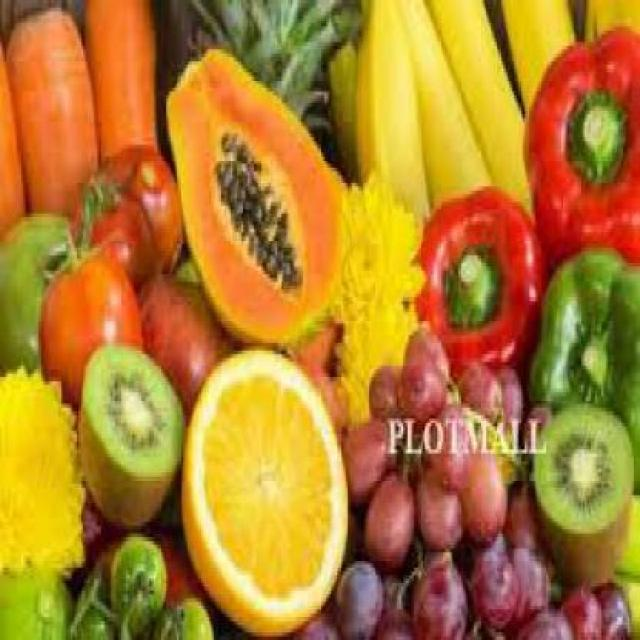BIODEGRADABLE: (162, 46, 340, 343), (177, 342, 348, 636), (522, 22, 638, 275), (524, 243, 638, 488), (414, 183, 544, 374), (183, 0, 357, 142), (330, 168, 422, 423), (429, 0, 529, 214), (74, 339, 186, 526), (2, 0, 92, 225), (533, 395, 630, 583), (407, 0, 493, 209), (0, 358, 83, 572), (351, 0, 426, 232), (73, 144, 179, 294), (38, 248, 138, 403), (138, 270, 232, 412), (0, 209, 75, 369), (83, 0, 155, 160), (218, 144, 296, 282), (89, 526, 208, 606), (498, 0, 573, 115), (38, 168, 116, 270), (59, 461, 113, 568), (108, 533, 164, 636), (0, 556, 72, 636), (362, 465, 415, 572), (410, 545, 465, 637), (0, 34, 25, 226), (465, 541, 517, 628), (459, 442, 503, 544), (412, 461, 459, 553), (324, 35, 354, 179), (341, 415, 388, 503), (333, 556, 382, 636), (427, 396, 468, 484), (501, 472, 542, 550), (394, 362, 444, 423), (509, 544, 546, 622), (455, 355, 499, 419), (72, 567, 111, 636), (286, 329, 342, 373), (556, 579, 598, 636), (490, 358, 521, 431), (579, 0, 638, 38), (593, 579, 630, 636), (403, 324, 446, 373), (514, 601, 569, 637), (171, 590, 214, 636), (364, 362, 402, 412), (311, 366, 344, 419), (521, 396, 548, 453), (373, 601, 410, 637), (292, 609, 337, 637), (152, 601, 173, 637)
